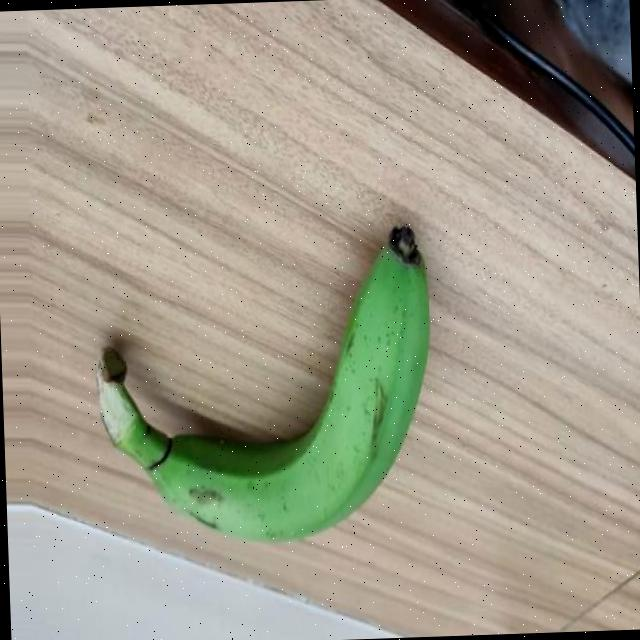Unripe: (89, 223, 437, 549)
